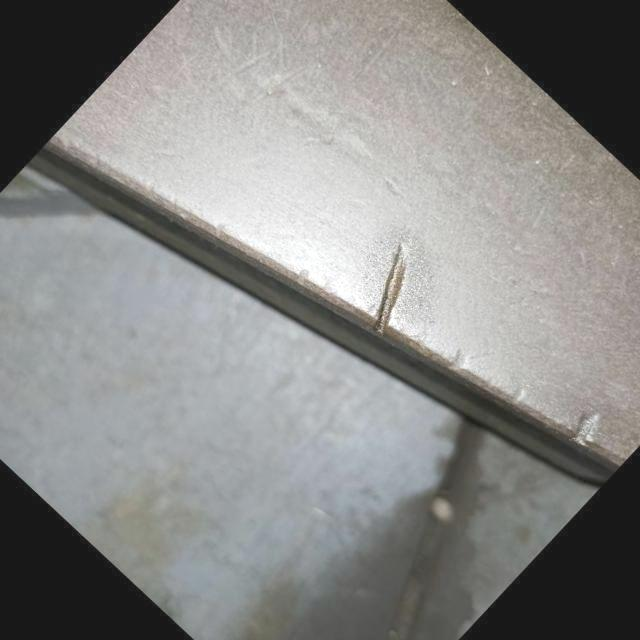defect: (370, 249, 408, 338)
